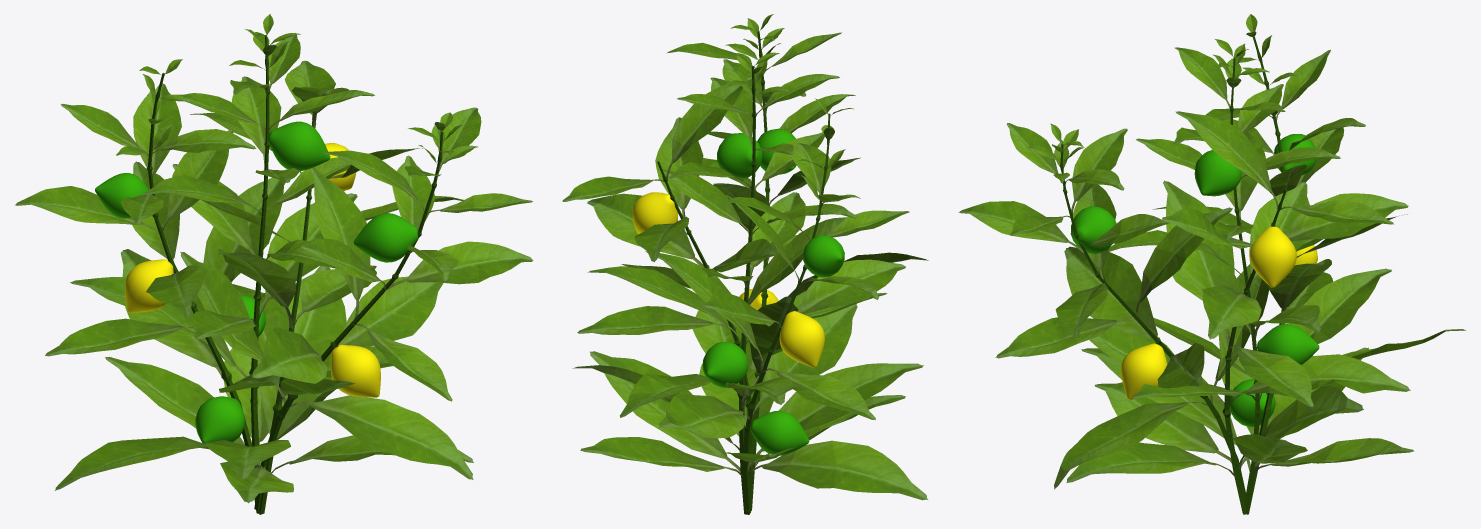
File: package.dae
3 renders of one model, left to right at view 1: azimuth 30°, elevation 25°; view 2: azimuth 150°, elevation 25°; view 3: azimuth 270°, elevation 25°, orthographic. The views are drawn at different scales.
Parts seen in each view (by area): view 1: Lemon Tree.001; view 2: Lemon Tree.001; view 3: Lemon Tree.001.
Part boxes in pixels (x1,y1,x2,y2): Lemon Tree.001: [15, 14, 533, 514]; Lemon Tree.001: [562, 14, 928, 514]; Lemon Tree.001: [958, 14, 1465, 514].
Bounding box in the file's own units: 0.3417 × 0.403 × 0.4106.
Materials: 4 (4 with a texture image).
